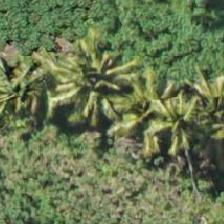coconut_tree: (50, 33, 140, 123), (136, 81, 223, 171), (0, 46, 58, 136), (173, 60, 223, 150)
